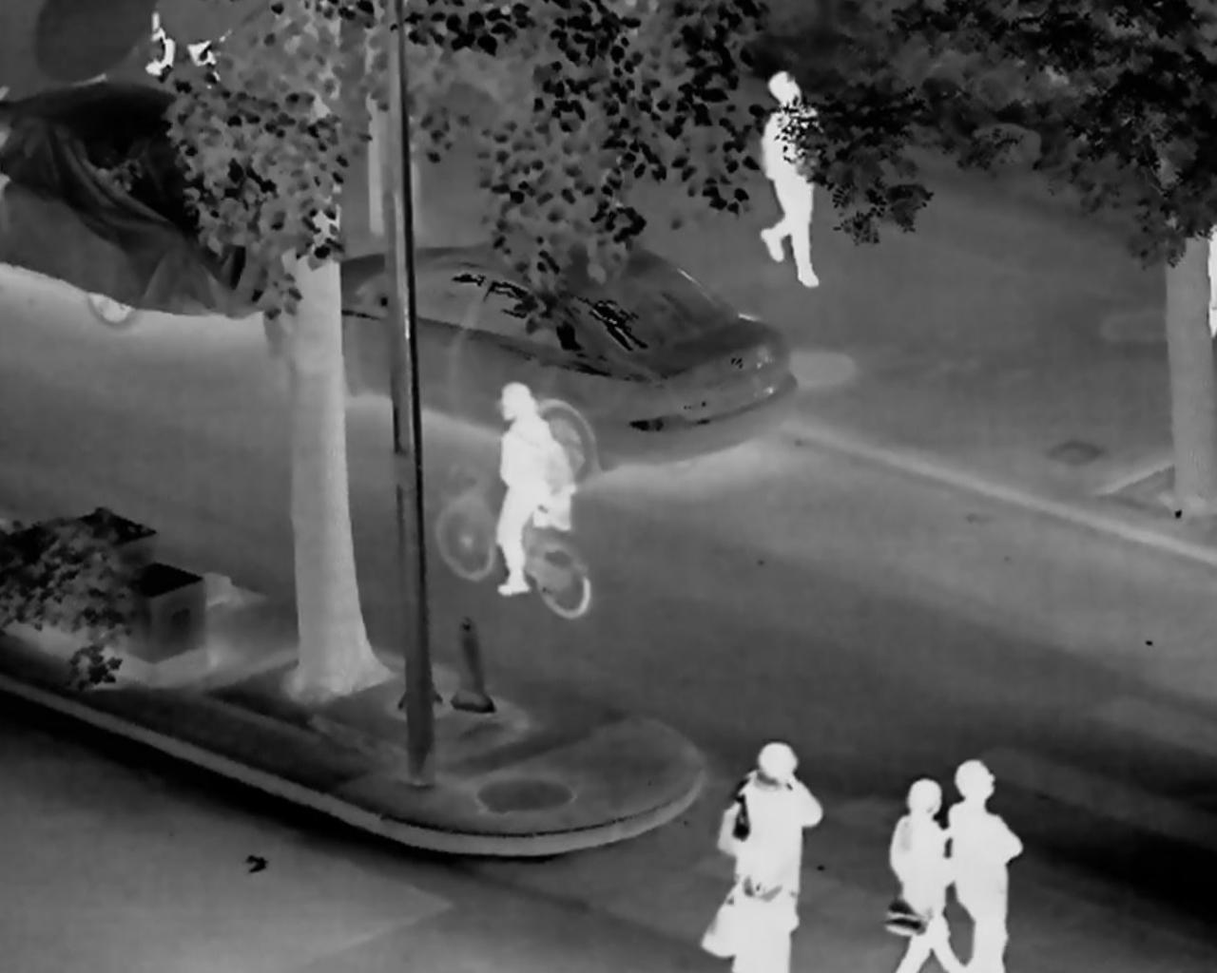person: (492, 380, 571, 601), (724, 736, 807, 929), (948, 757, 1022, 970), (884, 779, 965, 970), (754, 72, 824, 291), (712, 863, 797, 973)
